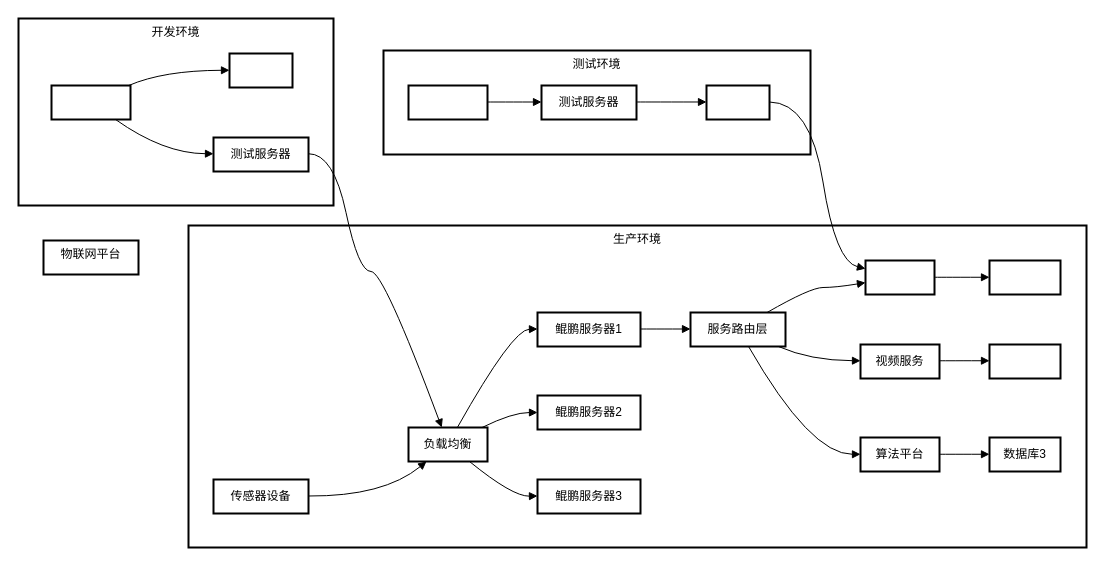
This 1104x565 diagram has some shape labels left out. Here are the shapes that lost their labels. From the top down, the centre of each, then its label:
At (260,70): "模拟器".
At (90,102): "开发工具".
At (447,102): "测试工具".
At (737,102): "数据库".
At (899,277): "IoT平台".
At (1024,277): "数据库1".
At (1024,361): "数据库2".
